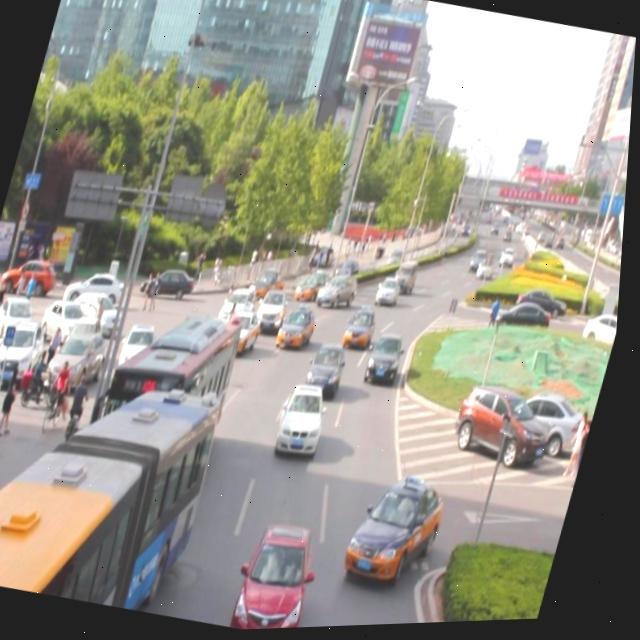car: (346, 471, 453, 593), (236, 518, 329, 632), (275, 381, 339, 461), (253, 285, 301, 342), (176, 315, 223, 373), (218, 311, 270, 363), (365, 332, 409, 393), (308, 340, 353, 398), (277, 303, 325, 356), (296, 267, 342, 311), (220, 286, 261, 332), (343, 308, 383, 354), (319, 273, 363, 311), (375, 276, 406, 312)
truck: (393, 260, 425, 300)
van: (0, 342, 235, 623), (97, 306, 254, 500)
